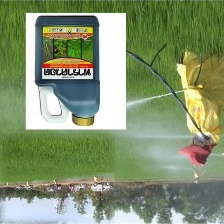insecticide: (31, 12, 105, 129)
